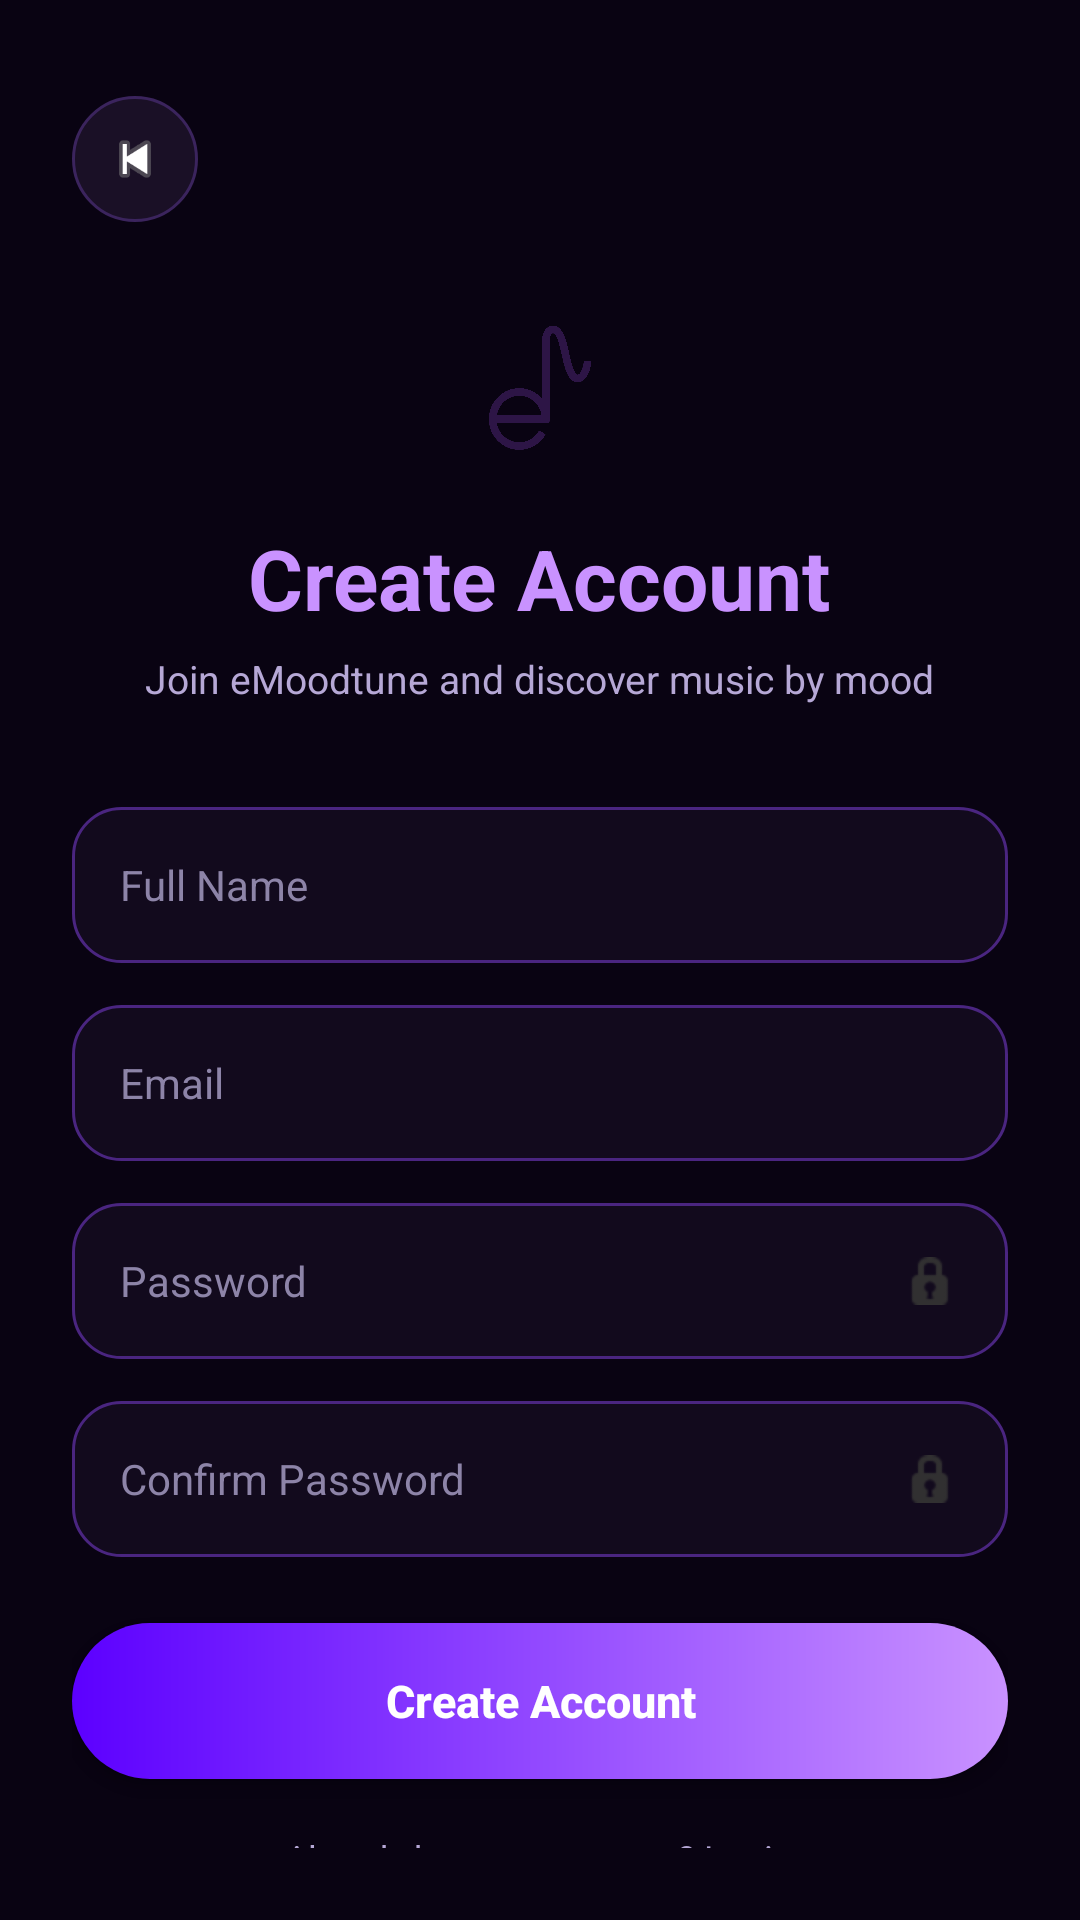

Where to tap for icons on this 1080×1920 app screen, as [x,y]:
Back: [135,159]
